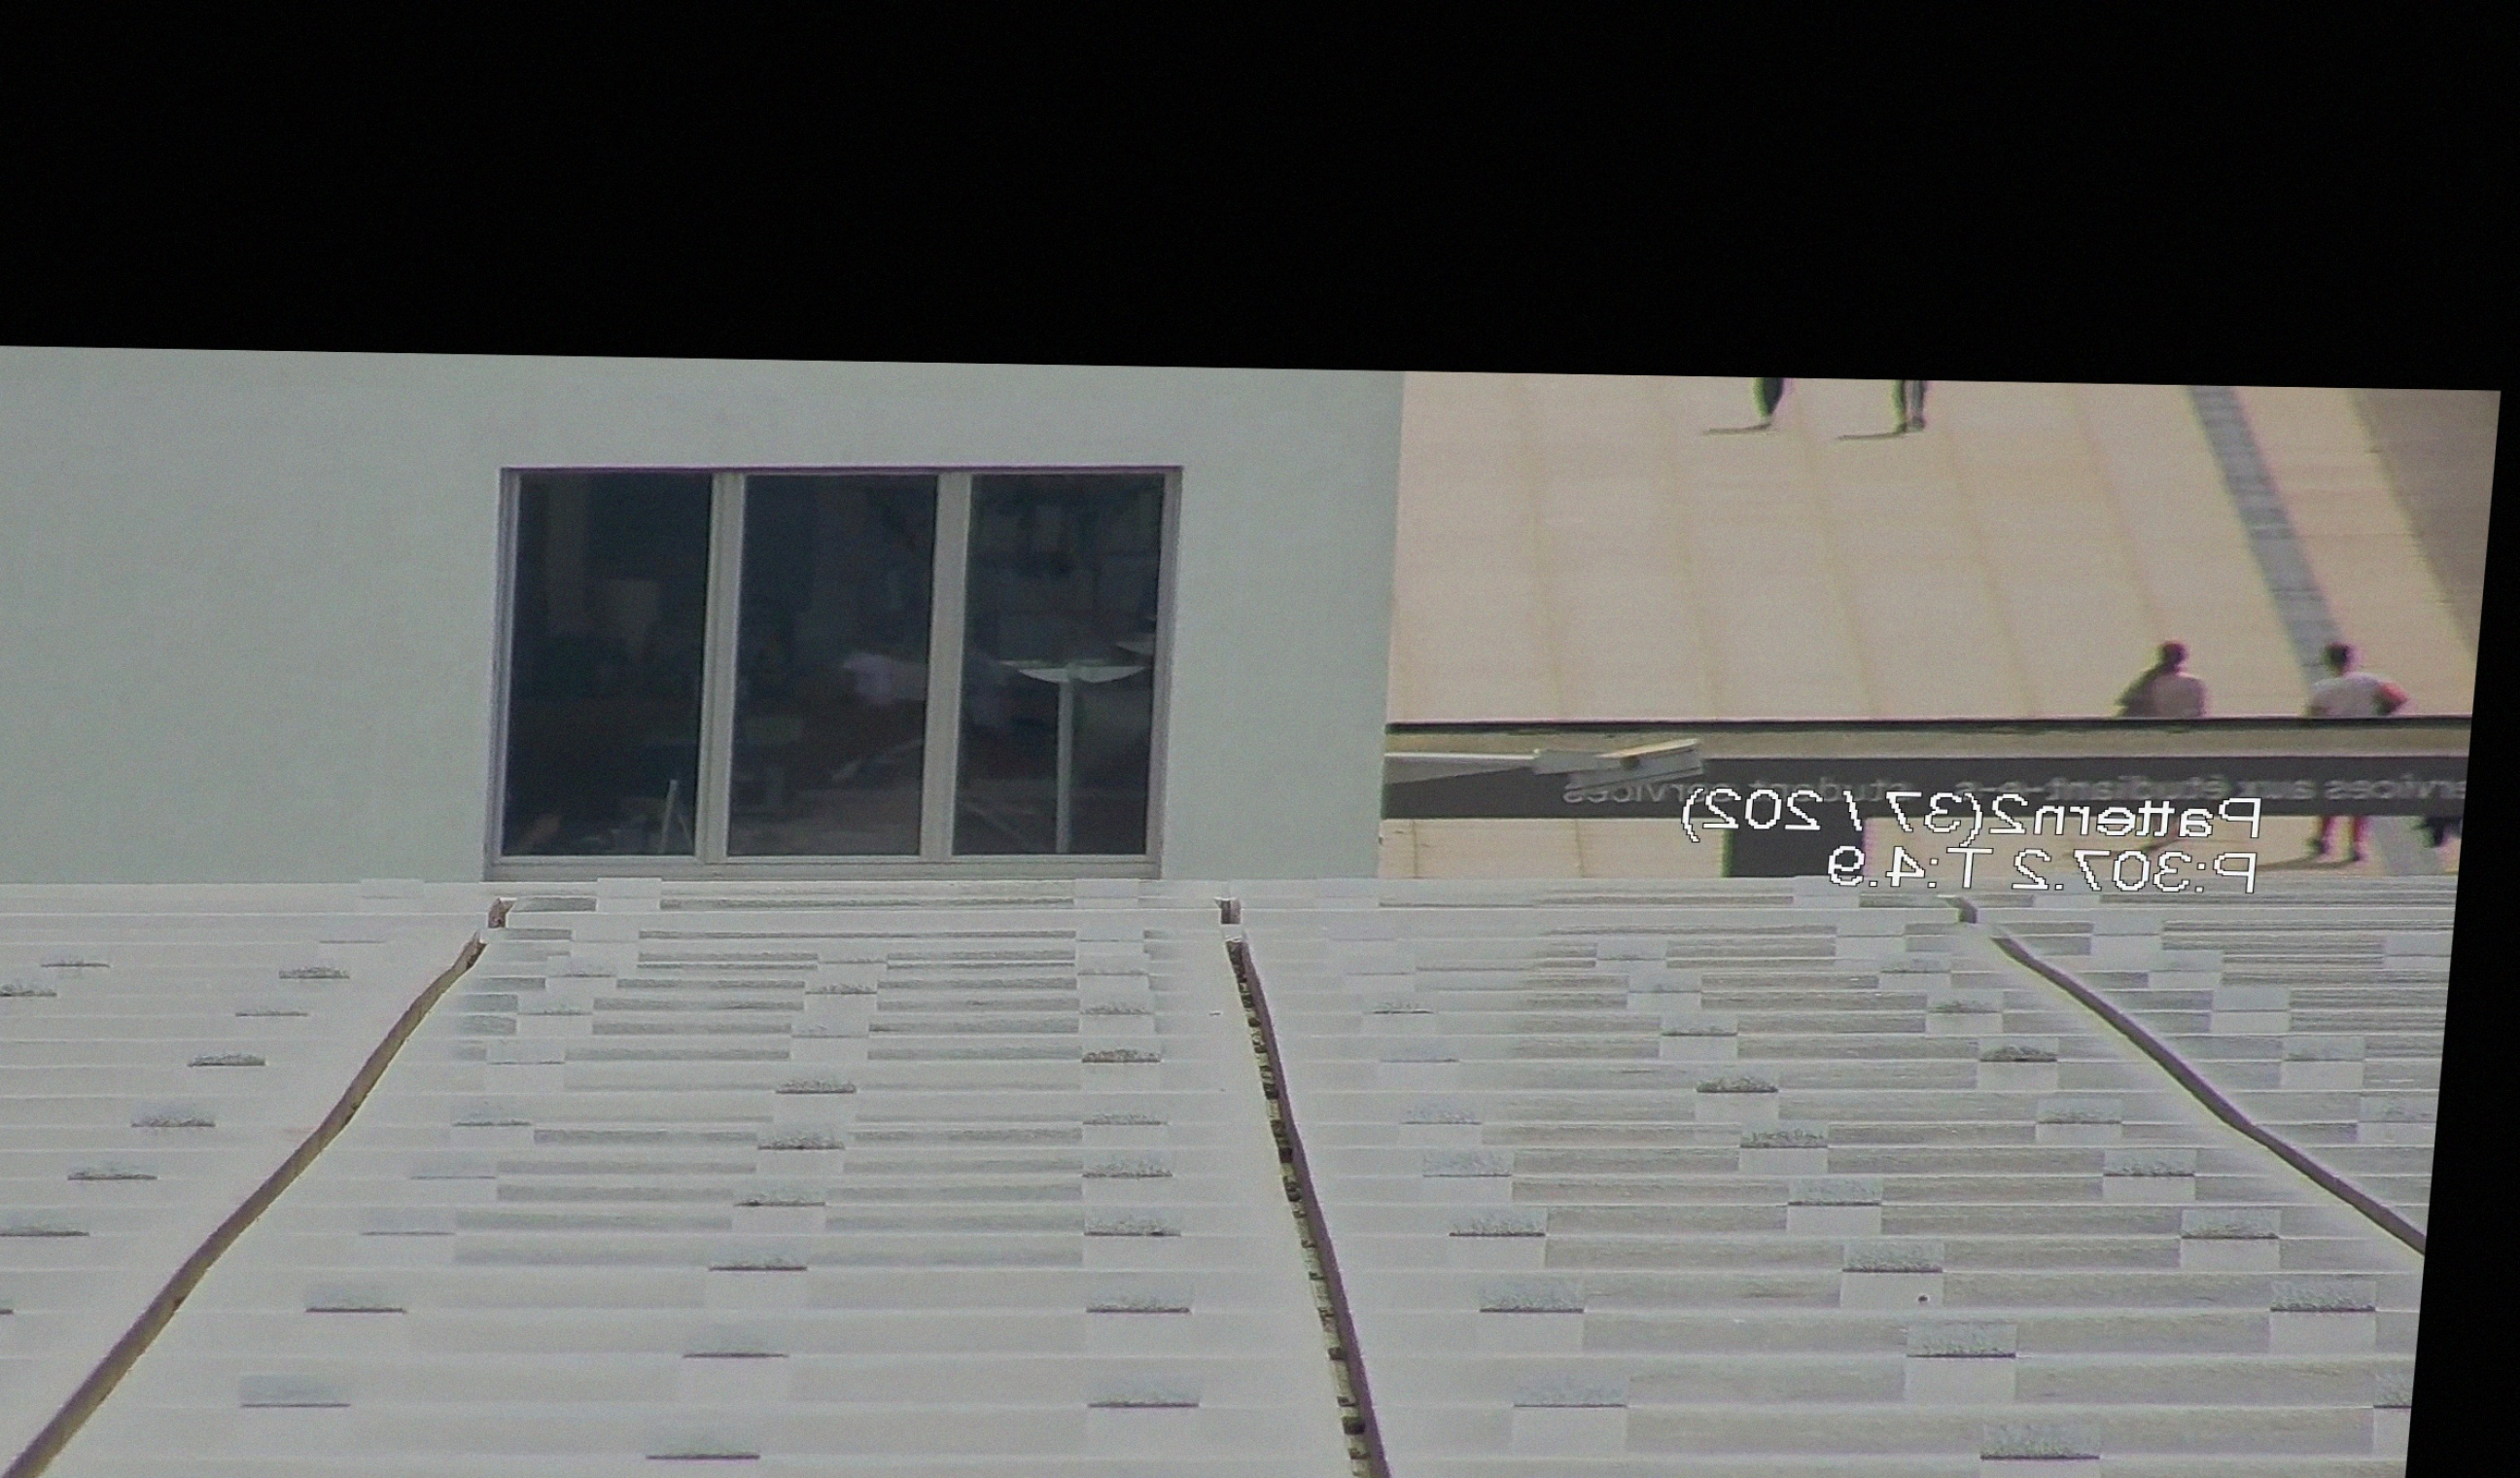Other: (2112, 630, 2225, 723)
